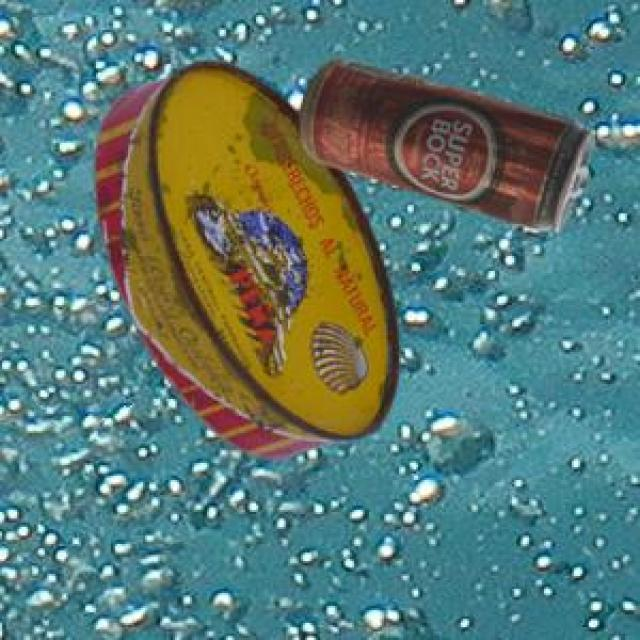Can: (91, 59, 396, 455), (295, 54, 591, 229)
